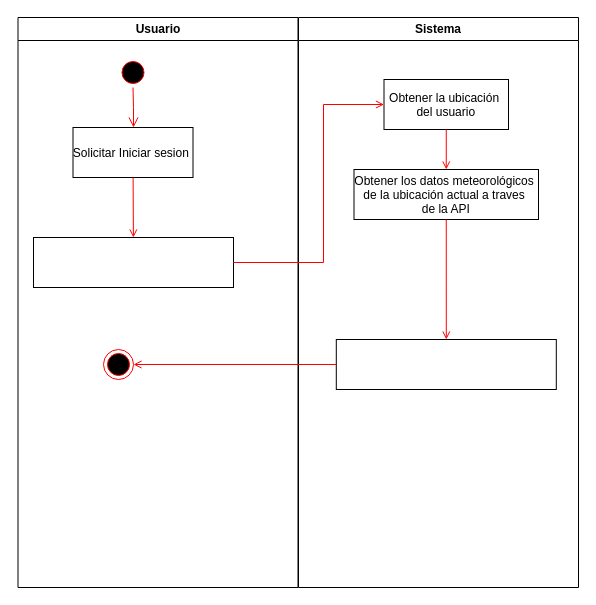
The diagram is 596 pixels wide and 605 high, and some of its shapes have lost their labels. The centre of each missing label's shape, as x and y in pixels:
"Mostrar la condiciones meteorológicas de la ubicación actual del usuario" belongs at (x=445, y=364).
"Solicitar ubicación actual del usuario" belongs at (x=133, y=262).
